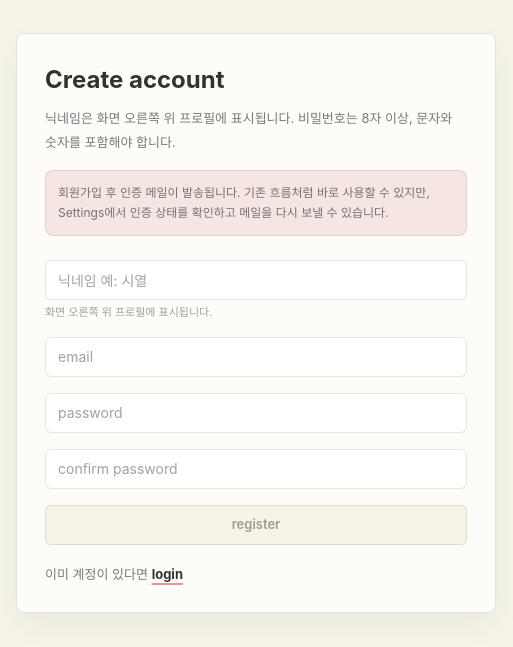
Test case: RegisterPage › shows password mismatch
Type "닉네임" into the field with placeholder "닉네임 예: 시열". click: (256, 280)
box: [45,260,467,300]
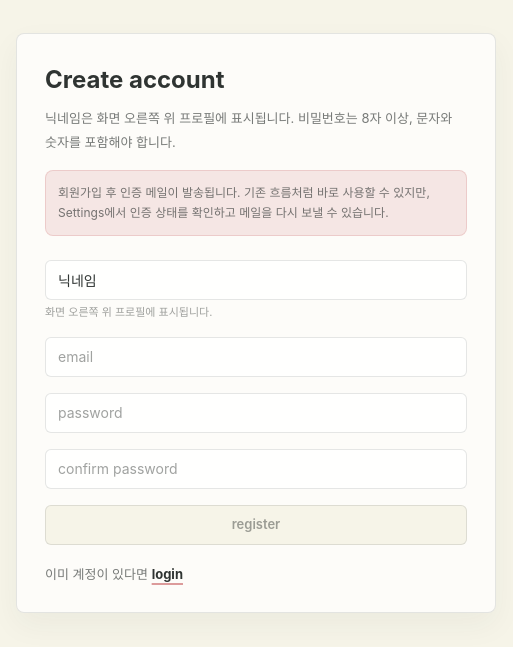
Type "user@example.com" into the field with placeholder "email". click: (256, 356)
box: [45,336,467,376]
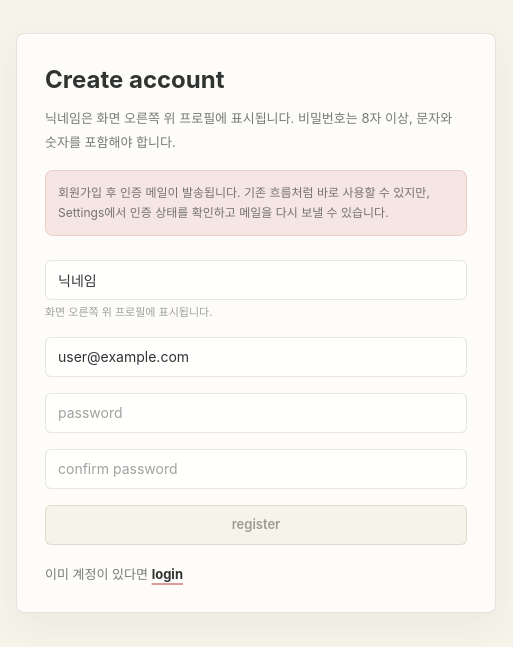
Type "password123" into the password field with placeholder "password". click: (256, 412)
box: [45,392,467,432]
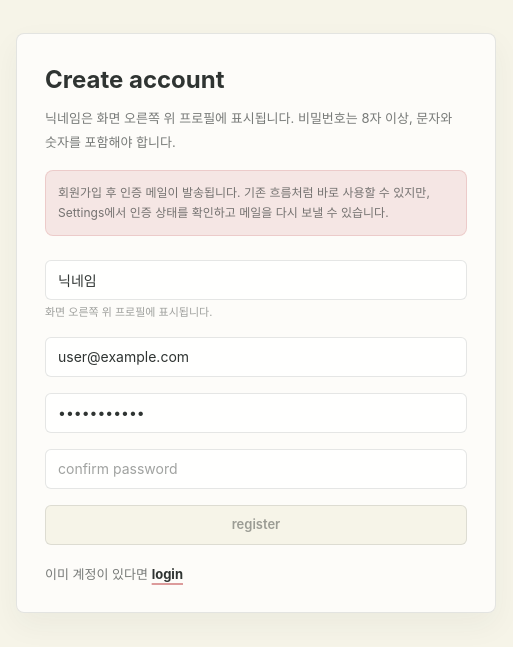
Type "password456" into the password field with placeholder "confirm password". click: (256, 468)
box: [45,448,467,488]
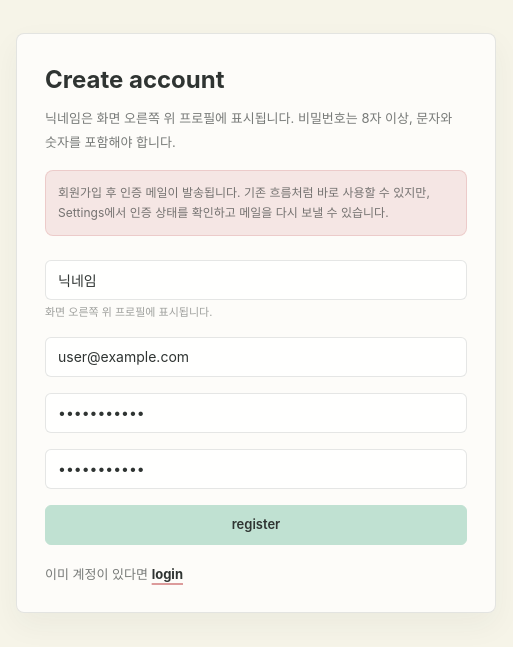
Click the button "register". click: (256, 524)
box: [45,504,467,544]
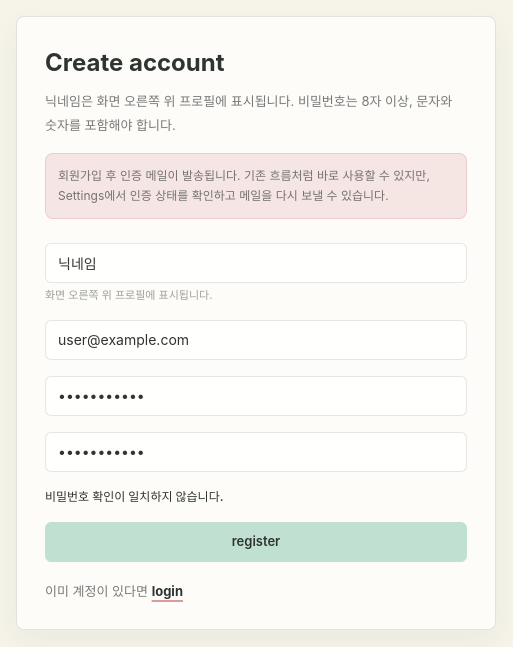
Expected: the text "비밀번호 확인이 일치하지 않습니다." is shown, [45,488,224,504]
